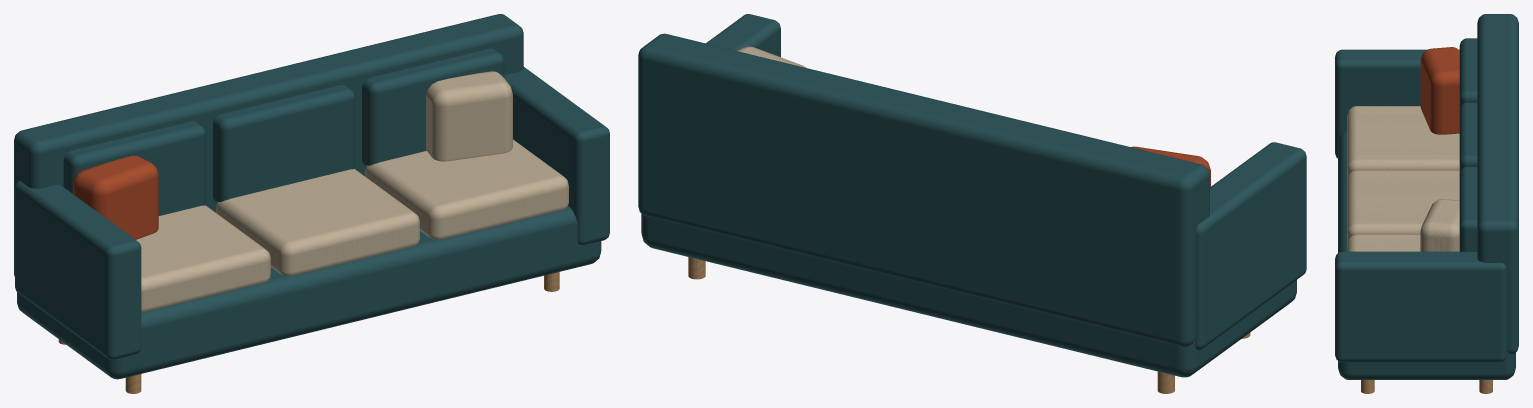
The model's file is three_seat_sofa.dae.
The picture shows the model from 3 angles, left to right: view 1: azimuth 30°, elevation 25°; view 2: azimuth 150°, elevation 25°; view 3: azimuth 270°, elevation 25°; orthographic projection. The views are drawn at different scales.
Parts seen in each view (by area): view 1: teal, linen, terra, oak; view 2: teal, oak; view 3: teal, linen, terra, oak.
Boxes of the visible parts, box(x1,y1,x2,y2) form: teal: box(14, 14, 609, 379); linen: box(136, 71, 568, 312); terra: box(73, 156, 158, 239); oak: box(58, 272, 559, 393); teal: box(638, 14, 1306, 377); oak: box(688, 257, 1250, 393); teal: box(1335, 14, 1518, 379); linen: box(1347, 106, 1459, 251); terra: box(1420, 47, 1459, 134); oak: box(1361, 380, 1492, 393).
Size of the model in its own units: 2.6 by 0.93 by 1.02.
4 materials, 2 textured.
